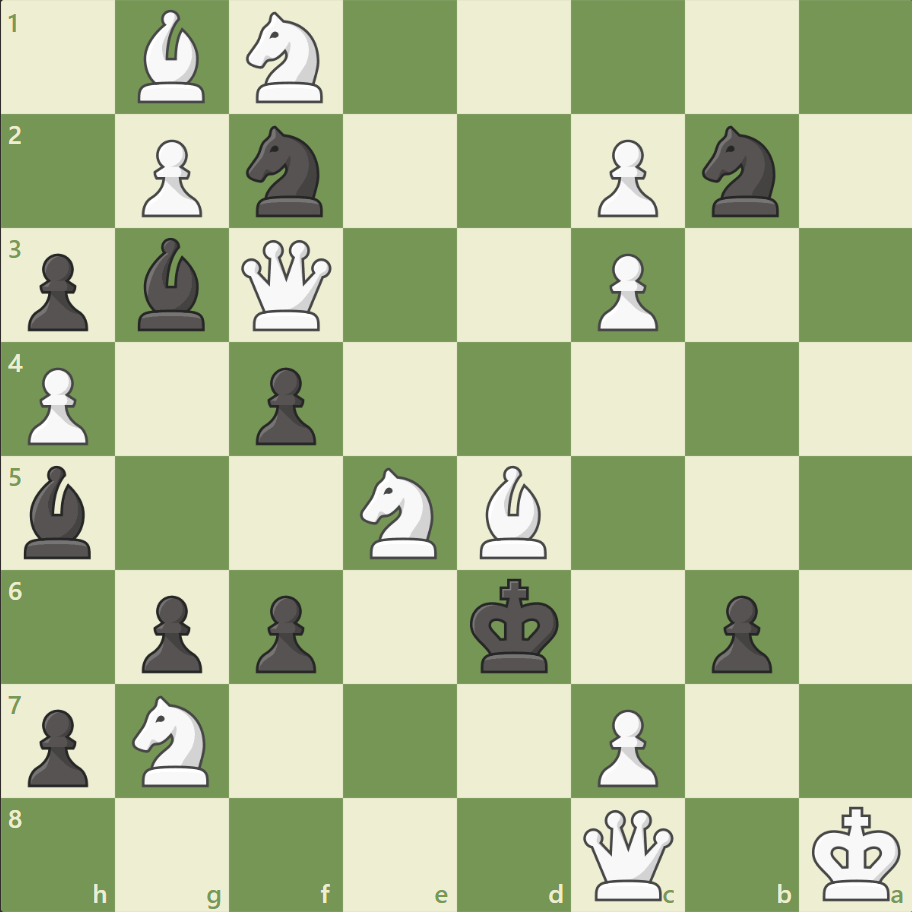B: (471, 460, 555, 563), (131, 6, 215, 109)
K: (806, 798, 906, 906)
N: (124, 688, 222, 791), (351, 461, 449, 564), (238, 7, 335, 110)
P: (20, 359, 95, 450), (133, 132, 208, 223), (588, 700, 662, 791), (588, 246, 662, 337), (588, 132, 662, 223)
Q: (578, 804, 677, 903), (237, 236, 336, 335)
b: (17, 460, 101, 563), (131, 233, 215, 336)
k: (465, 571, 565, 679)
n: (692, 121, 789, 223), (238, 121, 335, 223)
p: (20, 700, 95, 791), (701, 586, 776, 677), (247, 586, 322, 677), (133, 586, 208, 677), (247, 359, 322, 450), (20, 246, 95, 337)
